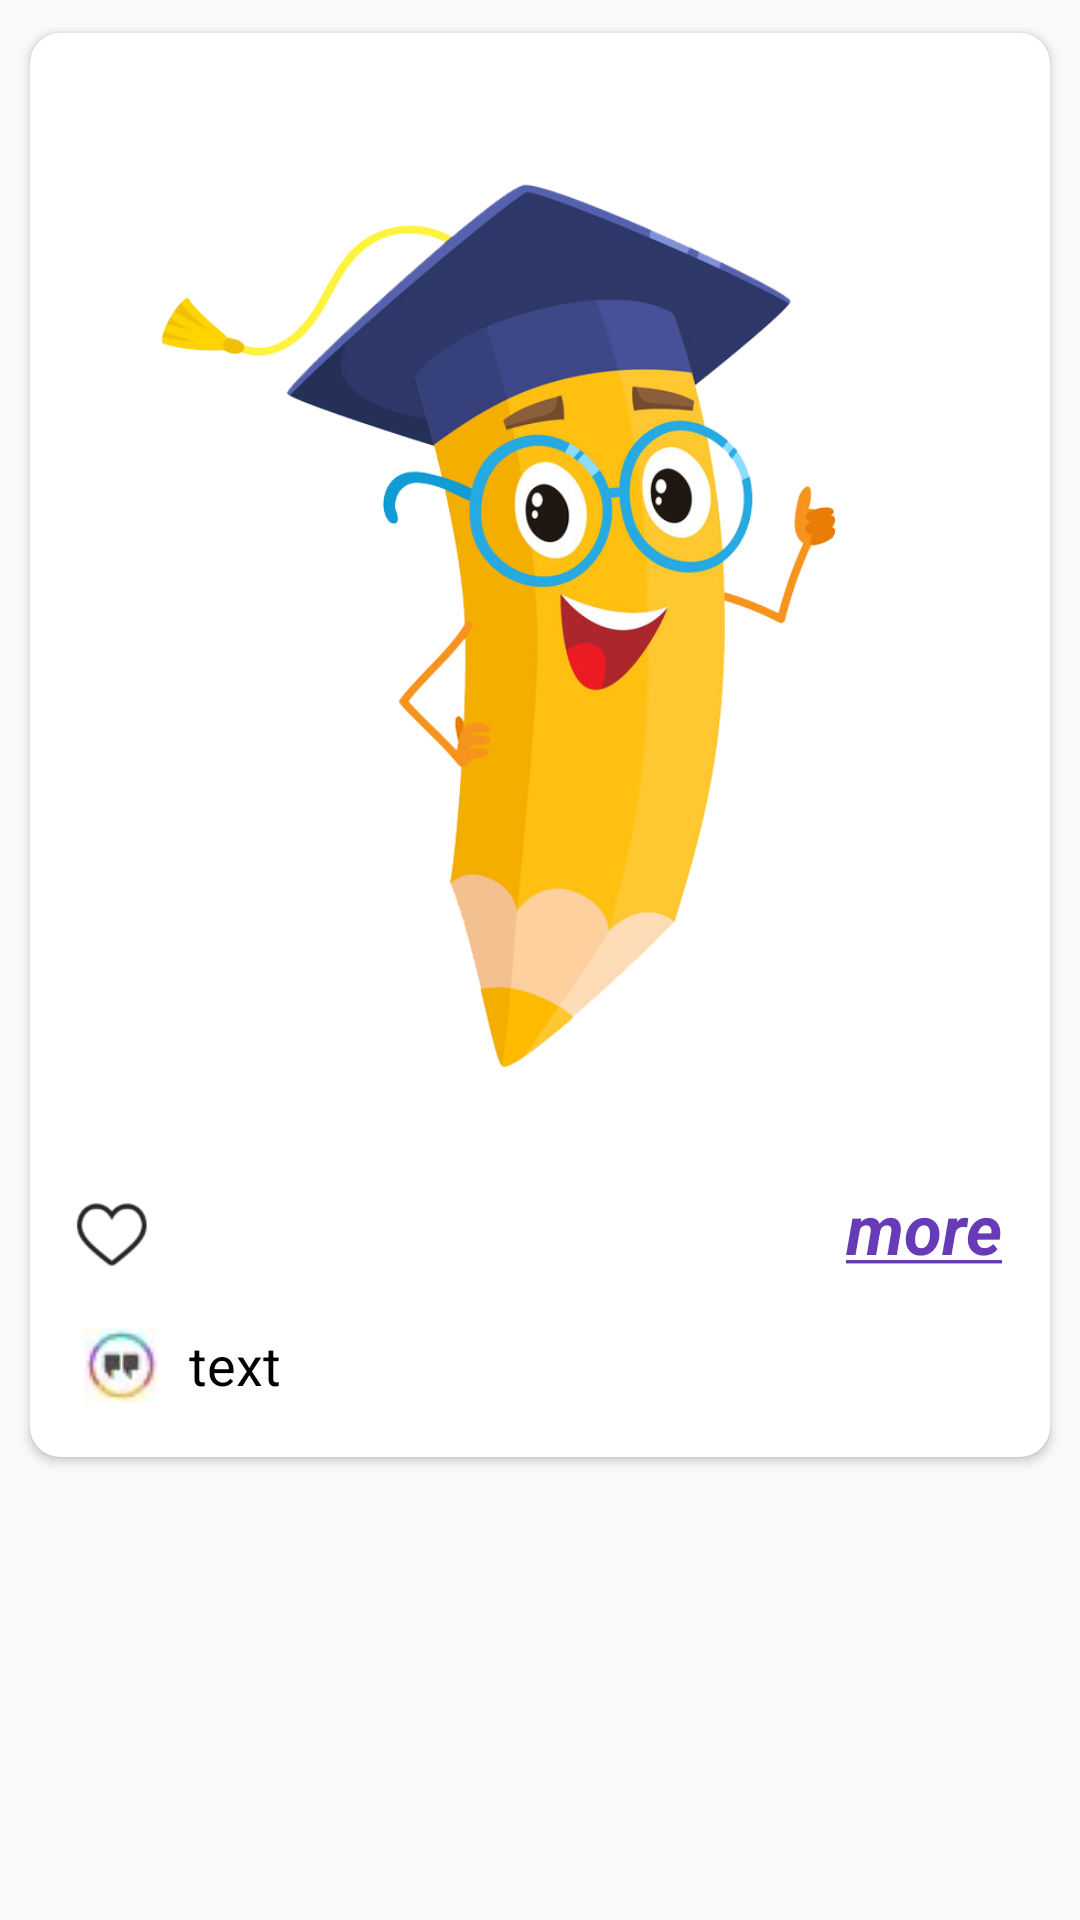

Icon click points for this 1080x1920 phone screenshot, format point (x, y):
love heart: point (112, 1234)
